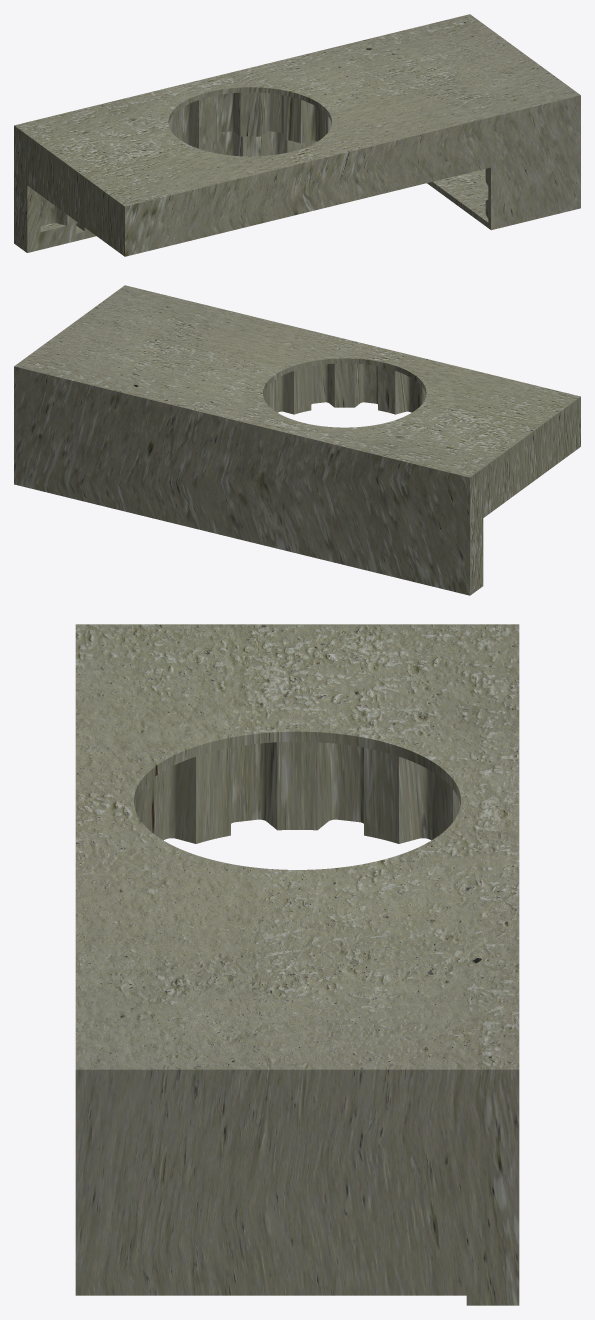
The model's file is v13_wall.dae.
The picture shows the model from 3 angles, top to bottom: view 1: azimuth 30°, elevation 25°; view 2: azimuth 150°, elevation 25°; view 3: azimuth 270°, elevation 25°; orthographic projection. The views are drawn at different scales.
Parts seen in each view (by area): view 1: Untitled; view 2: Untitled; view 3: Untitled.
Part boxes in pixels (x1,y1,x2,y2): Untitled: (14,14,580,256); Untitled: (14,285,580,595); Untitled: (75,624,519,1305).
Bounding box in the file's own units: 190 × 80 × 47.
Materials: 1 (1 with a texture image).
